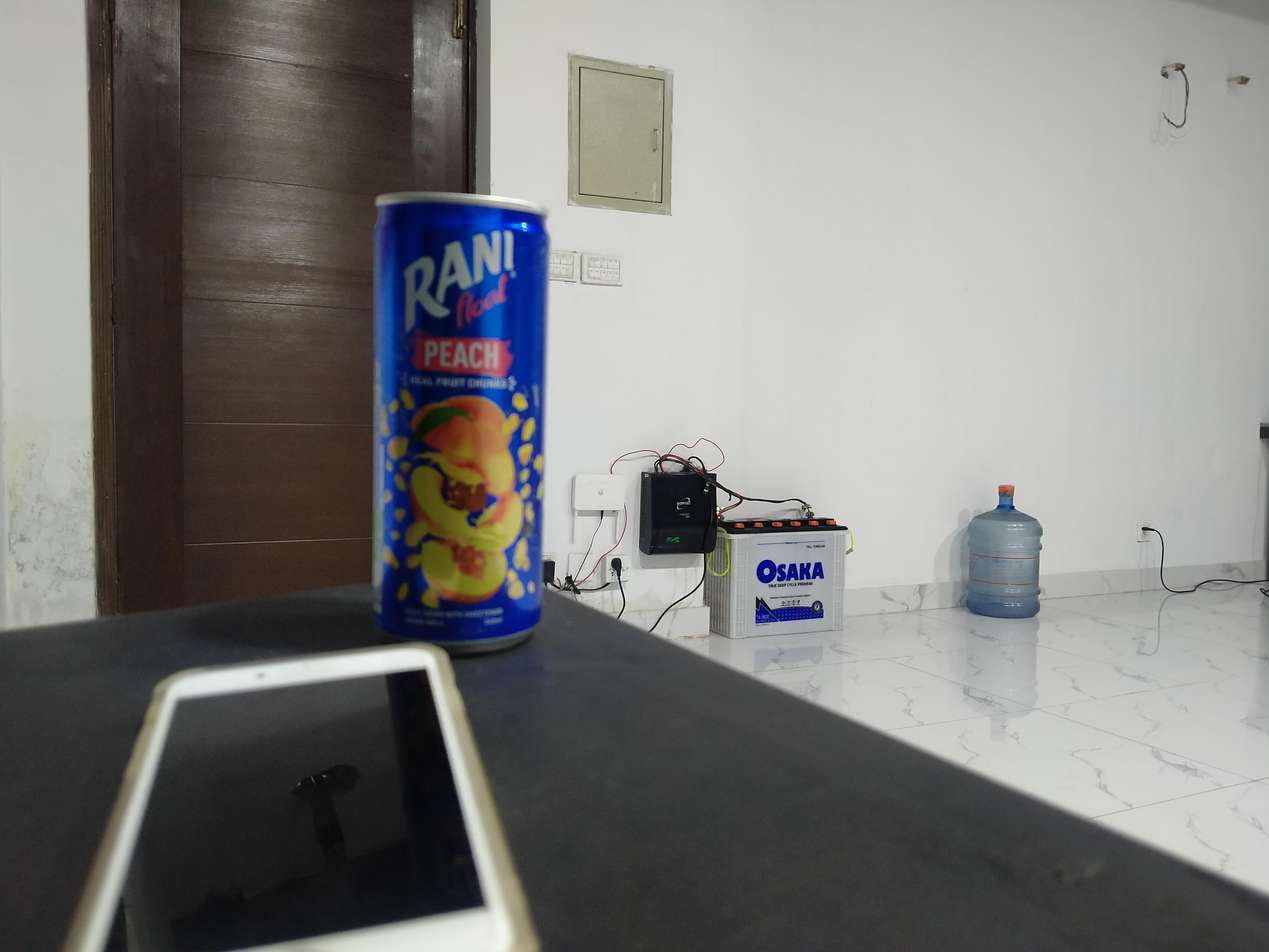tin can: (370, 187, 552, 657)
